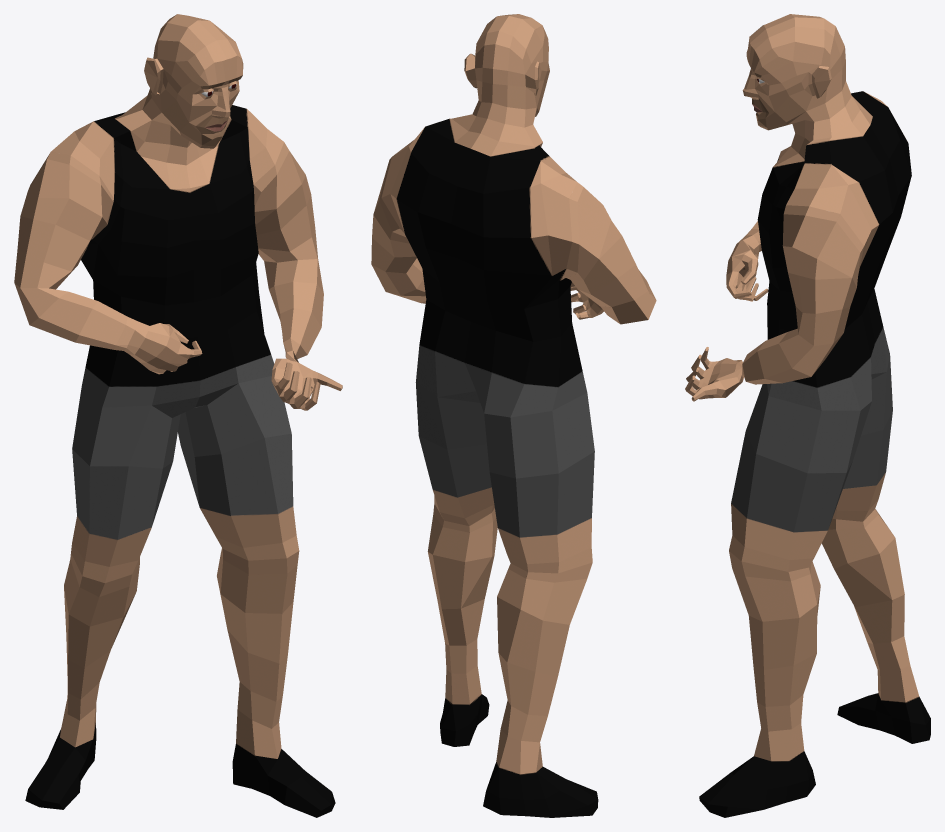
Rendered from PlayerIdle(181).obj.
3 renders of one model, left to right at view 1: azimuth 30°, elevation 25°; view 2: azimuth 150°, elevation 25°; view 3: azimuth 270°, elevation 25°, orthographic. The views are drawn at different scales.
Parts seen in each view (by area): view 1: Plane002; view 2: Plane002; view 3: Plane002.
Part boxes in pixels (left/top/right/bottom): Plane002: left=14, top=14, right=342, bottom=817; Plane002: left=371, top=14, right=656, bottom=817; Plane002: left=685, top=14, right=930, bottom=817.
Bounding box in the file's own units: 706 × 1802 × 534.
